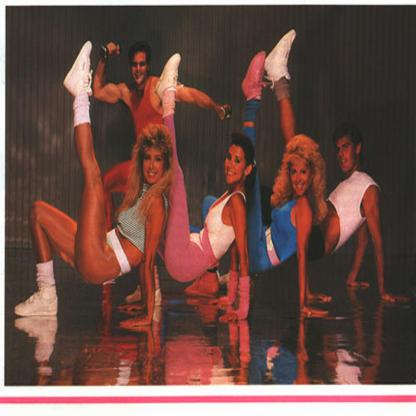face: (225, 145, 245, 185), (291, 160, 312, 196), (145, 148, 164, 184), (337, 139, 356, 173), (132, 53, 147, 85)
